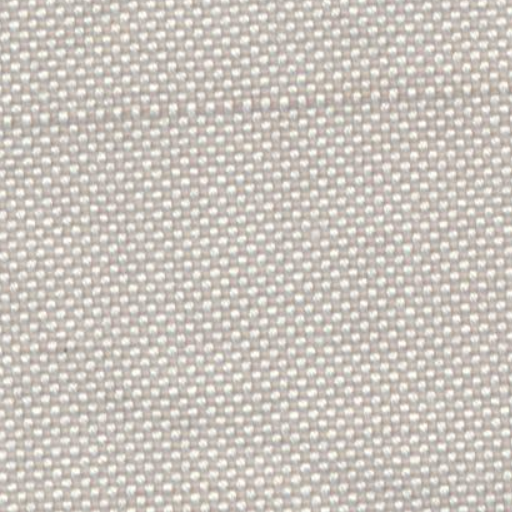TuoSha: (13, 72, 500, 146)
